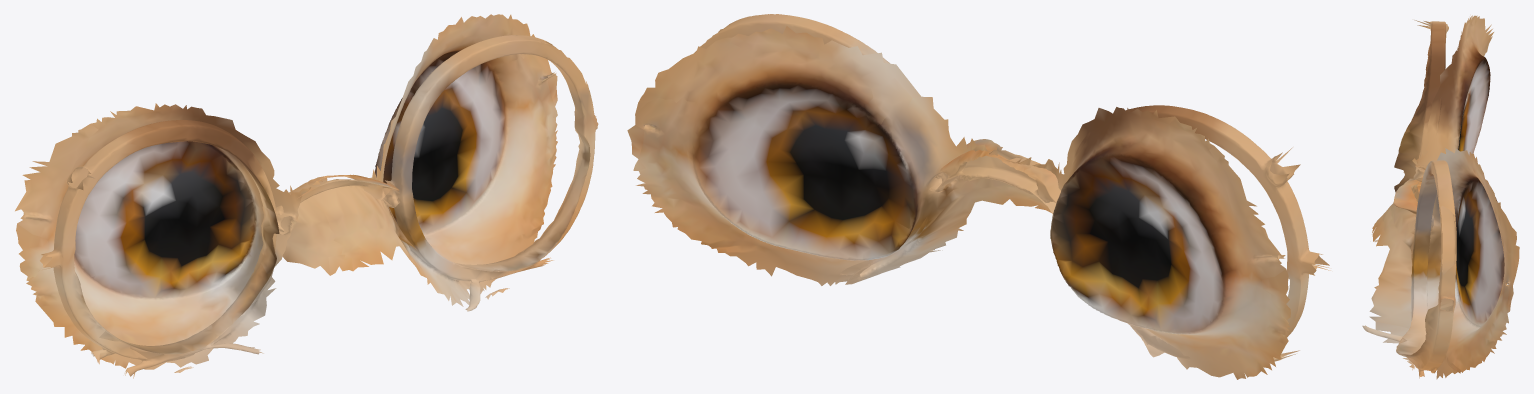
File: student-cat-detail.glb
The picture shows the model from 3 angles, left to right: view 1: azimuth 30°, elevation 25°; view 2: azimuth 150°, elevation 25°; view 3: azimuth 270°, elevation 25°; orthographic projection. The views are drawn at different scales.
Visible parts, largest first — view 1: Student Glasses and Eyes; view 2: Student Glasses and Eyes; view 3: Student Glasses and Eyes.
Part boxes in pixels (x1,y1,x2,y2): Student Glasses and Eyes: (15, 14, 598, 378); Student Glasses and Eyes: (627, 14, 1330, 379); Student Glasses and Eyes: (1362, 15, 1519, 379).
Bounding box in the file's own units: 0.3079 × 0.129 × 0.0872.
